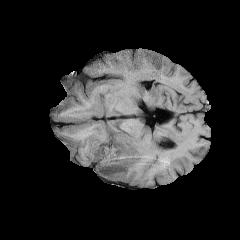glioma: (87, 132, 139, 178)
